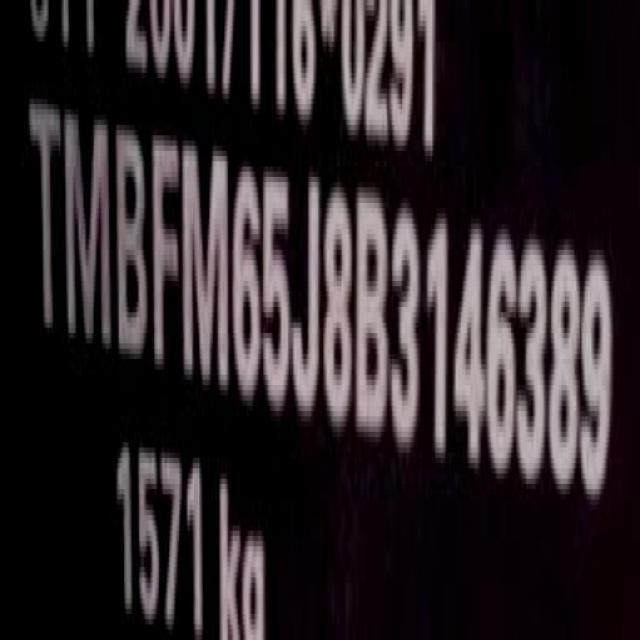1: (427, 219, 449, 471)
3: (393, 203, 424, 457), (520, 237, 550, 491)
4: (452, 219, 484, 479)
5: (263, 164, 291, 417)
6: (487, 232, 520, 482), (230, 158, 261, 408)
8: (551, 245, 583, 498), (322, 178, 353, 434)
9: (582, 261, 615, 510)
B: (354, 188, 390, 450), (117, 125, 149, 370)
F: (152, 128, 180, 366)
J: (294, 174, 322, 426)
M: (66, 106, 113, 358), (187, 139, 231, 402)
T: (25, 92, 63, 338)
